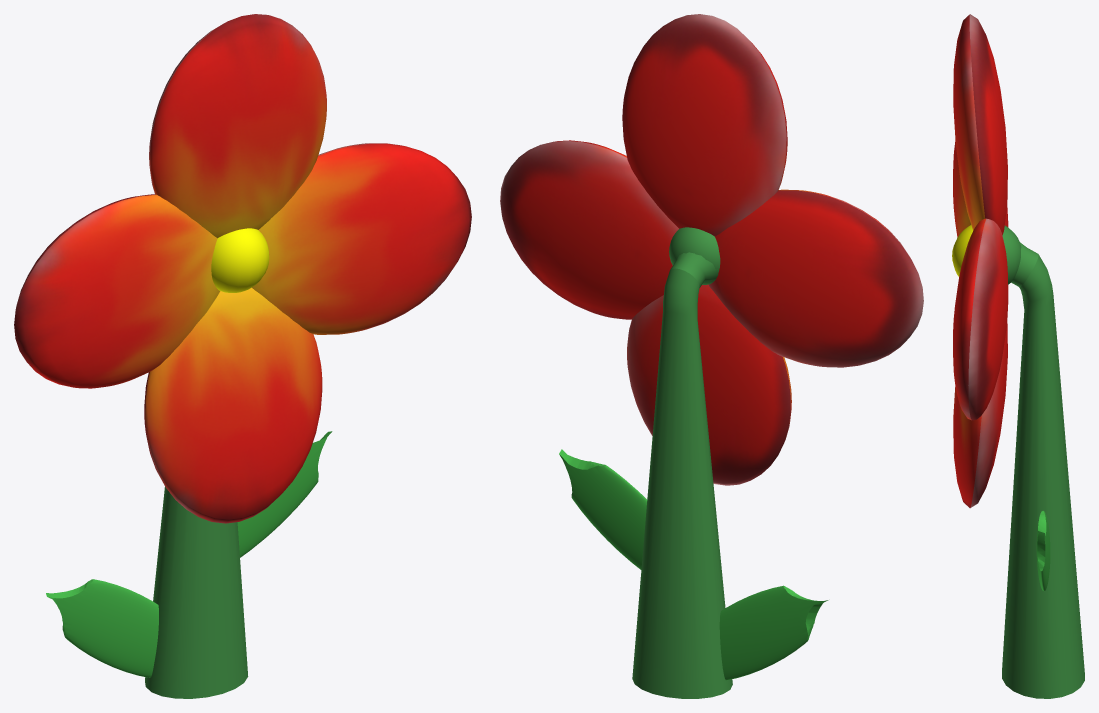
The model's file is Flower.fbx.
3 renders of one model, left to right at view 1: azimuth 30°, elevation 25°; view 2: azimuth 150°, elevation 25°; view 3: azimuth 270°, elevation 25°, orthographic. The views are drawn at different scales.
Visible parts, largest first — view 1: polySurface10; view 2: polySurface10; view 3: polySurface10.
Boxes of the visible parts, x1,y1,x2,y2 form: polySurface10: [14, 14, 471, 698]; polySurface10: [500, 14, 923, 698]; polySurface10: [952, 14, 1084, 698].
Size of the model in its own units: 19.92 by 28.69 by 5.24.
